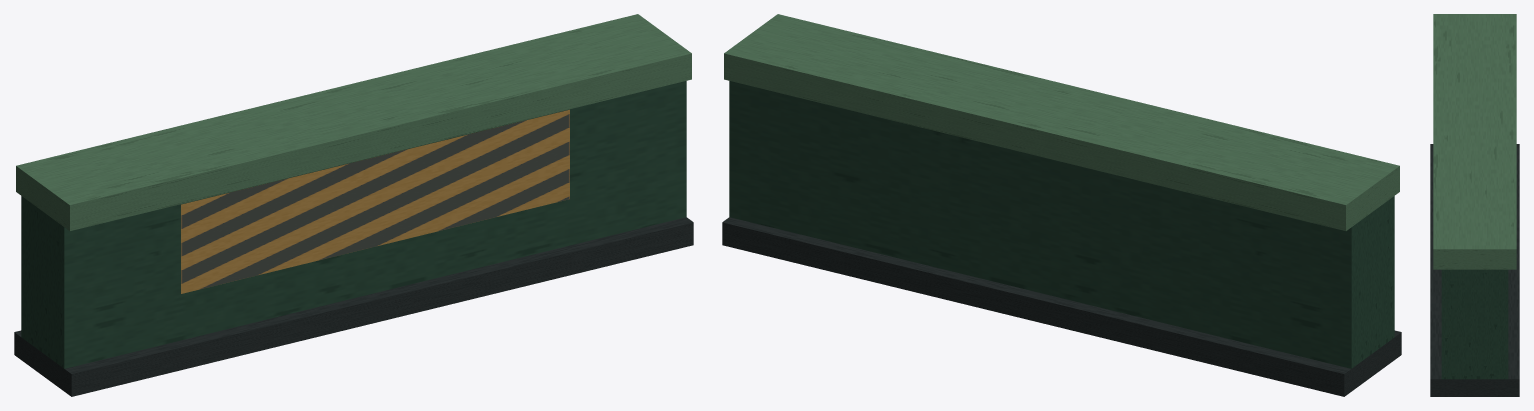
Rendered from RimBeam4m.fbx.
The picture shows the model from 3 angles, left to right: view 1: azimuth 30°, elevation 25°; view 2: azimuth 150°, elevation 25°; view 3: azimuth 270°, elevation 25°; orthographic projection. The views are drawn at different scales.
Parts seen in each view (by area): view 1: RimBeam4m; view 2: RimBeam4m; view 3: RimBeam4m.
Part boxes in pixels (box(x1,y1,x2,y2)): RimBeam4m: box(14, 14, 693, 396); RimBeam4m: box(722, 14, 1401, 396); RimBeam4m: box(1430, 14, 1519, 396).
Size of the model in its own units: 400 by 117 by 64.
